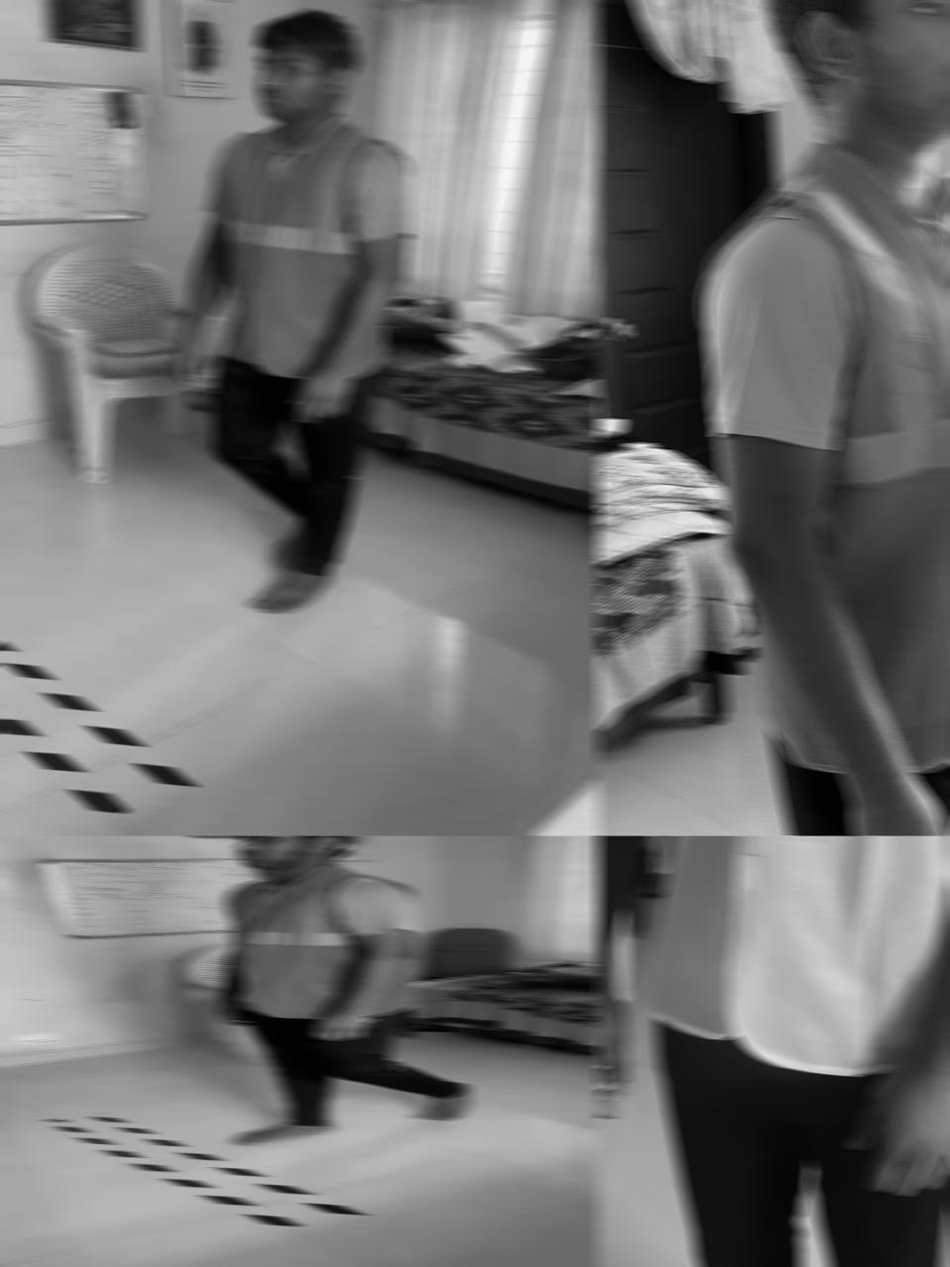BorderLine: (39, 1111, 371, 1231), (0, 638, 201, 825)
Helmet: (234, 835, 354, 871)
No_Helmet: (762, 0, 950, 147), (252, 8, 359, 122)
Person: (696, 0, 950, 835), (595, 835, 950, 1267), (171, 8, 413, 614), (212, 835, 474, 1145)
Vest: (703, 135, 950, 773), (627, 835, 950, 1080), (211, 115, 413, 381), (222, 864, 418, 1019)
